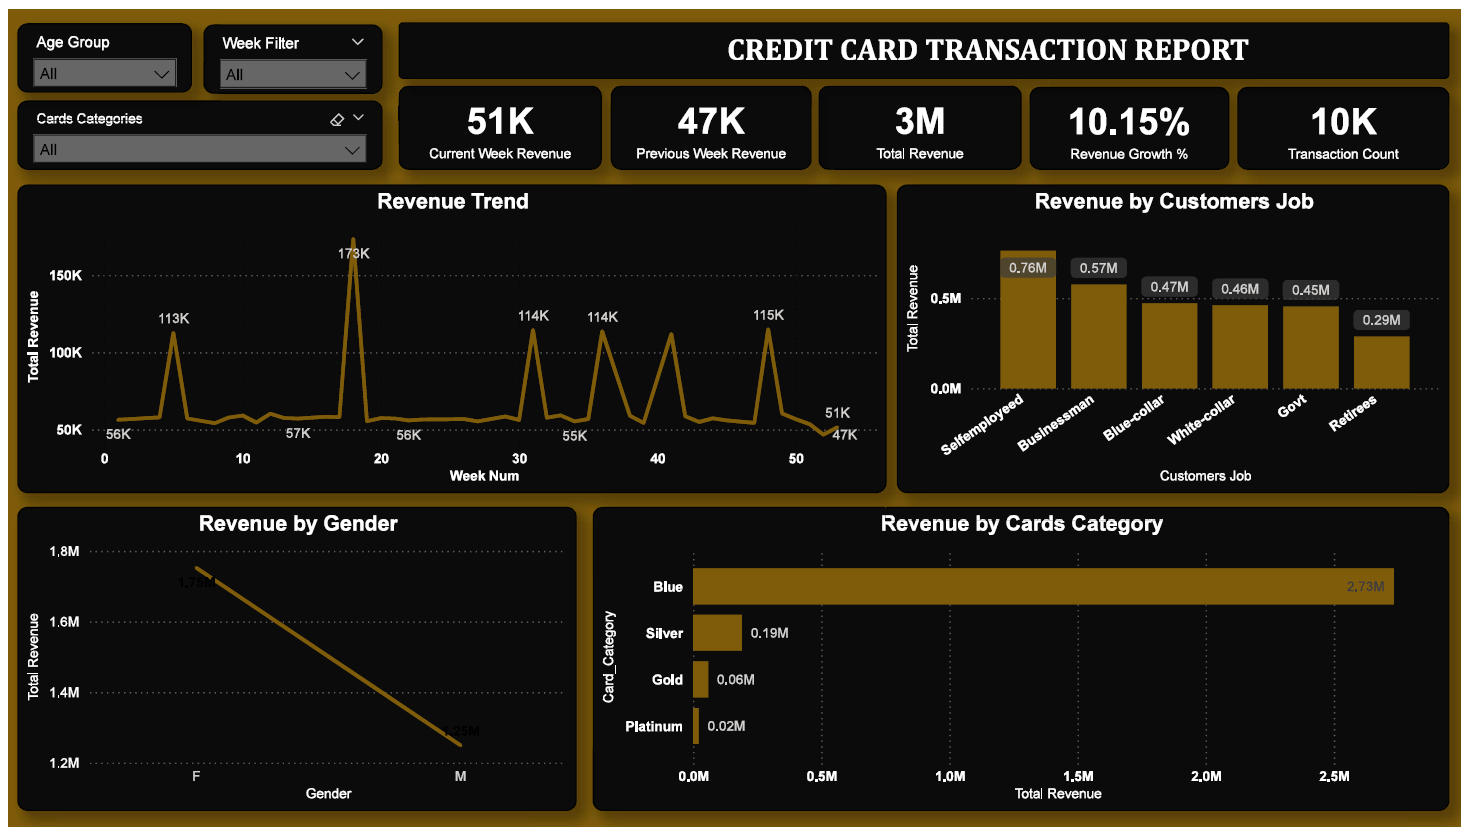

The dashboard page shown, as its layout file describes it:
{"tool":"powerbi","page":{"name":"Transaction report","canvas":[1280,720],"ordinal":1},"visuals":[{"type":"card","fields":{"Values":["CreditCard.Total Revenue"]},"box":[714.1,67.5,179,73.1],"z":0},{"type":"card","fields":{"Values":["CreditCard.Current Week Revenue"]},"box":[343.9,67.5,179,73.1],"z":1000},{"type":"card","fields":{"Values":["CreditCard.Previous Week Revenue"]},"box":[531.4,67.5,176.2,73.1],"z":2000},{"type":"card","fields":{"Values":["CreditCard.Revenue Growth %"]},"box":[899.7,68.4,176.2,72.2],"z":3000},{"type":"slicer","fields":{"Values":["CreditCard.Week Num"]},"box":[172.4,13.1,157.4,60.9],"z":5000},{"type":"slicer","fields":{"Values":["CreditCard.Card_Category"]},"box":[8.4,79.7,321.5,60.9],"z":6000},{"type":"lineChart","title":"Revenue Trend","fields":{"Category":["CreditCard.Week Num"],"Y":["CreditCard.Total Revenue"]},"box":[8.4,153.7,765.7,272.7],"z":7000},{"type":"clusteredBarChart","title":"Revenue by Cards Category","fields":{"Category":["CreditCard.Card_Category"],"Y":["CreditCard.Total Revenue"]},"box":[514.6,437.6,755.5,268],"z":8000},{"type":"lineChart","title":" Revenue by Gender","fields":{"Category":["customer.Gender"],"Y":["CreditCard.Total Revenue"]},"box":[8.4,437.7,493,268],"z":9000},{"type":"card","fields":{"Values":["CreditCard.Transaction Count"]},"box":[1083.4,68.4,186.5,72.2],"z":10000},{"type":"slicer","fields":{"Values":["customer.Age Group"]},"box":[8.4,12.2,153.7,60.9],"z":12000},{"type":"lineStackedColumnComboChart","title":" Revenue by Customers Job","fields":{"Y":["CreditCard.Total Revenue"],"Category":["customer.Customer_Job"]},"box":[783.5,153.7,486.4,272.7],"z":14000},{"type":"textbox","box":[343.9,11.2,925.9,49.7],"z":15000}]}

Visuals, with their boxes in screenshot pixels (x1, y1, x2, y2), scaled from the page's 1280x720 canvas onto the 1472x833 screenshot:
card - CreditCard.Total Revenue: locate(821, 78, 1027, 163)
card - CreditCard.Current Week Revenue: locate(395, 78, 601, 163)
card - CreditCard.Previous Week Revenue: locate(611, 78, 814, 163)
card - CreditCard.Revenue Growth %: locate(1035, 79, 1237, 163)
slicer - CreditCard.Week Num: locate(198, 15, 379, 86)
slicer - CreditCard.Card_Category: locate(10, 92, 379, 163)
"Revenue Trend" lineChart: locate(10, 178, 890, 493)
"Revenue by Cards Category" clusteredBarChart: locate(592, 506, 1461, 816)
" Revenue by Gender" lineChart: locate(10, 506, 577, 816)
card - CreditCard.Transaction Count: locate(1246, 79, 1460, 163)
slicer - customer.Age Group: locate(10, 14, 186, 85)
" Revenue by Customers Job" lineStackedColumnComboChart: locate(901, 178, 1460, 493)
textbox: locate(395, 13, 1460, 70)
